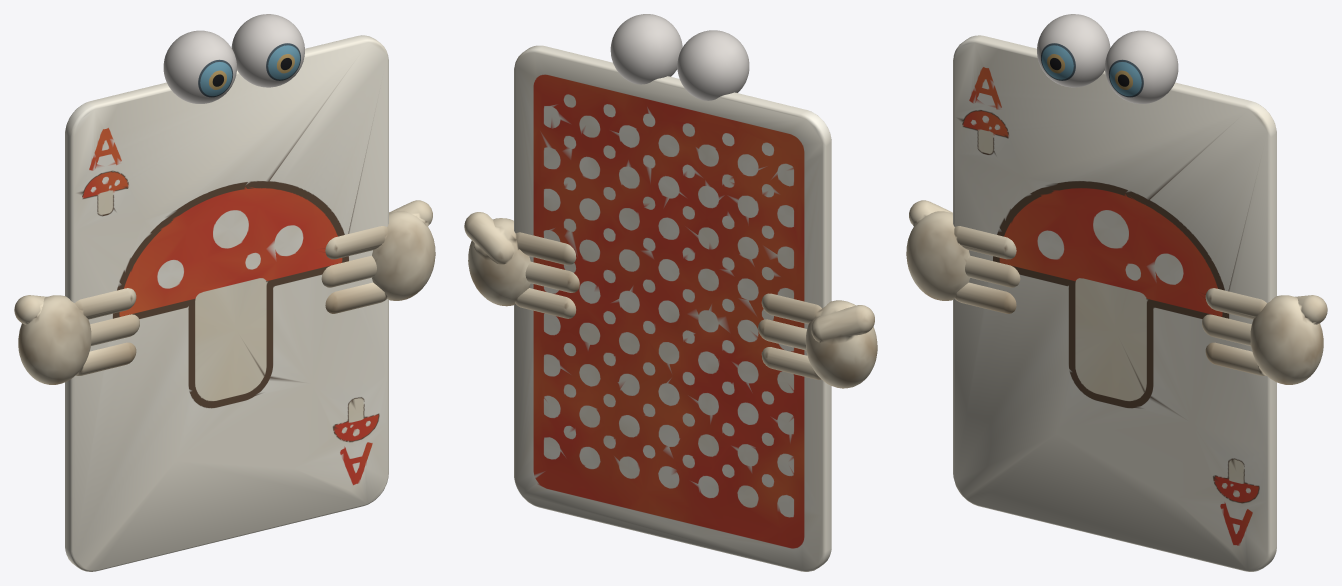
Rendered from card-ace-held.glb.
The picture shows the model from 3 angles, left to right: view 1: azimuth 30°, elevation 25°; view 2: azimuth 150°, elevation 25°; view 3: azimuth 330°, elevation 25°; orthographic projection.
Parts seen in each view (by area): view 1: card_ace, hand.1, hand.0, eye.1, eye.0; view 2: card_ace, hand.1, hand.0, eye.1, eye.0; view 3: card_ace, hand.0, hand.1, eye.0, eye.1.
Boxes of the visible parts, x1=… form: card_ace: x1=65, y1=35, x2=388, y2=571; hand.1: x1=14, y1=288, x2=139, y2=384; hand.0: x1=321, y1=200, x2=435, y2=313; eye.1: x1=163, y1=30, x2=236, y2=103; eye.0: x1=231, y1=14, x2=304, y2=87; card_ace: x1=514, y1=45, x2=831, y2=571; hand.1: x1=758, y1=293, x2=877, y2=388; hand.0: x1=464, y1=212, x2=579, y2=318; eye.1: x1=677, y1=30, x2=749, y2=100; eye.0: x1=610, y1=14, x2=682, y2=84; card_ace: x1=953, y1=35, x2=1276, y2=571; hand.0: x1=1202, y1=288, x2=1327, y2=384; hand.1: x1=906, y1=200, x2=1020, y2=313; eye.0: x1=1105, y1=30, x2=1178, y2=103; eye.1: x1=1037, y1=14, x2=1110, y2=87.
Bounding box in the file's own units: 3.91 × 4.65 × 0.682.
